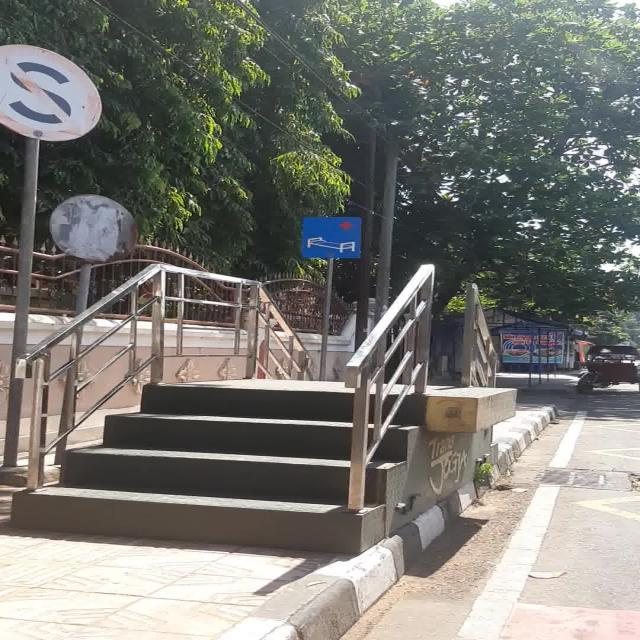Rumah Sakit: (302, 216, 362, 258)
